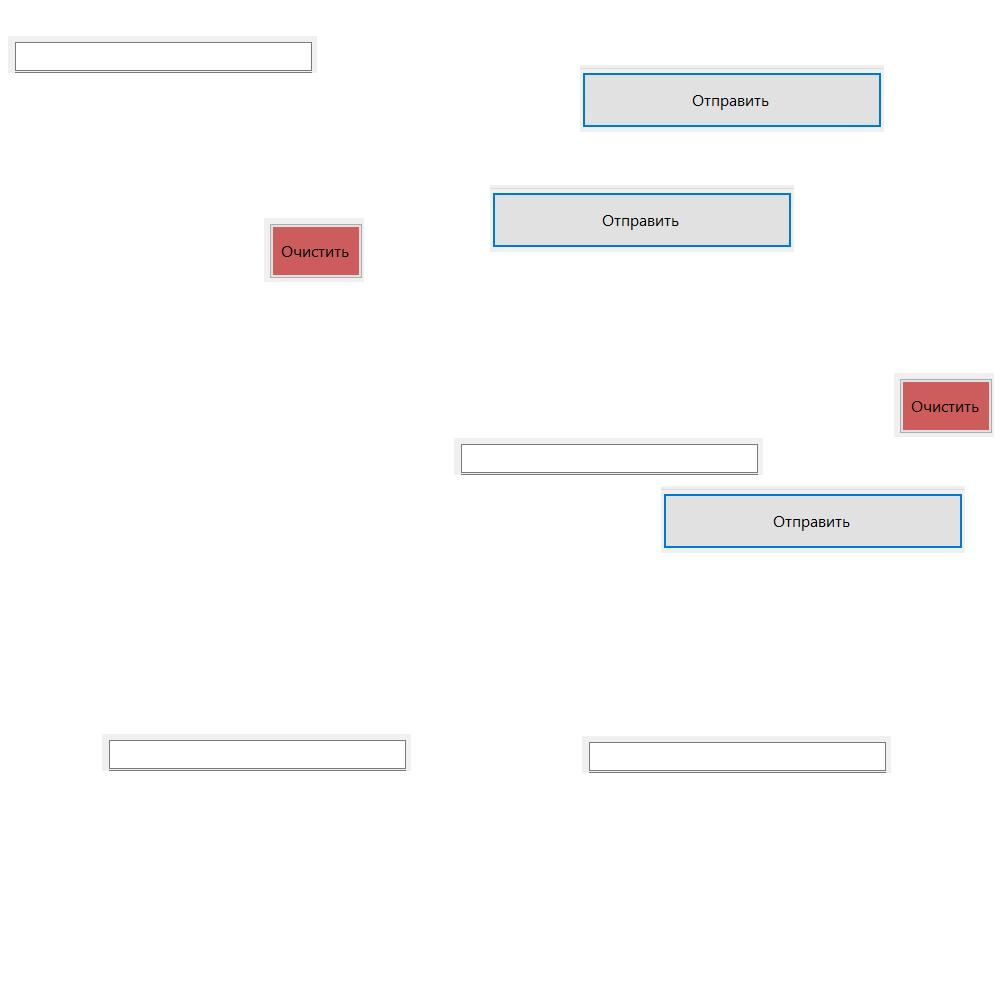Button: (490, 185, 794, 252), (580, 65, 884, 132), (661, 486, 965, 553), (894, 373, 994, 437), (264, 218, 364, 282)
EditText-: (8, 36, 317, 73), (582, 736, 891, 773), (454, 438, 763, 475), (102, 734, 411, 771)
